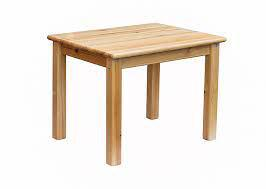desk: (33, 12, 233, 161)
